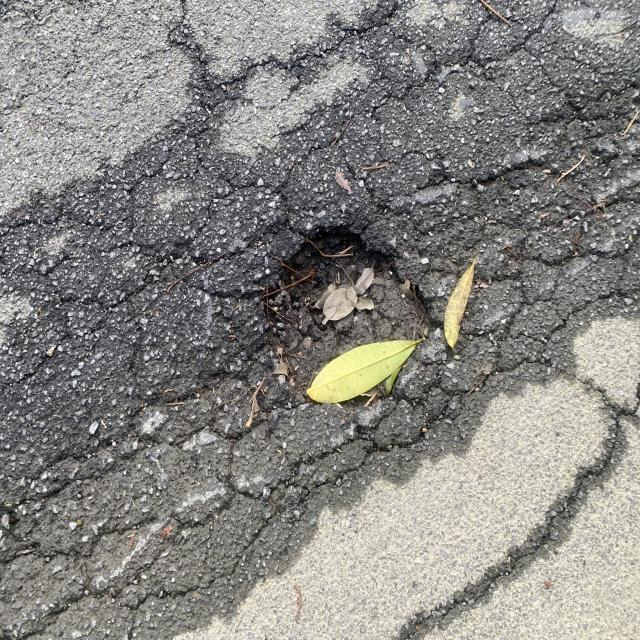pothole: (256, 175, 415, 444)
